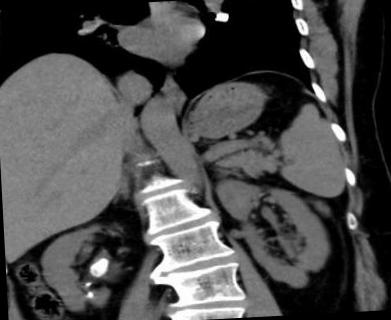Tas_Var: (85, 256, 110, 280), (83, 290, 97, 299), (81, 280, 94, 288)
